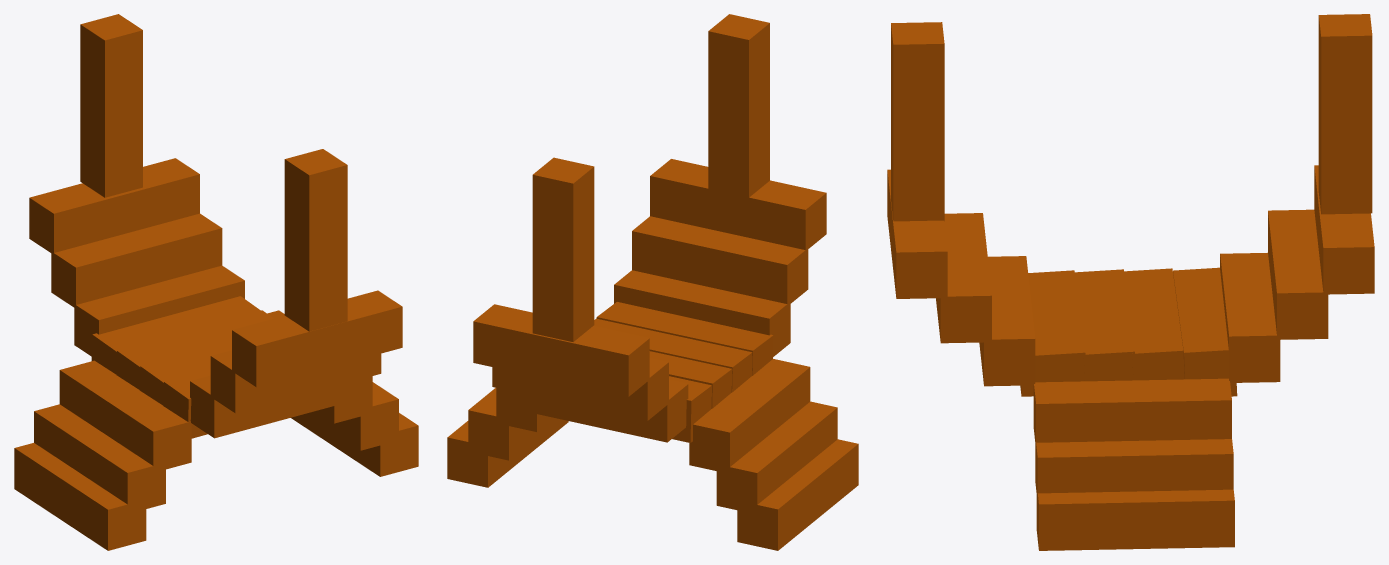
File: Acciavatti_beaconStructure.fbx
3 views of the same model, side by side, from view 1: azimuth 30°, elevation 25°; view 2: azimuth 150°, elevation 25°; view 3: azimuth 270°, elevation 25° (orthographic). The views are drawn at different scales.
Parts seen in each view (by area): view 1: topBeacon1, topBeacon2, midArm2, topArm, topArm2, topArch, botArch, midArch, botArm2, midArm, botArm, roof1 (+6 smaller); view 2: topBeacon2, topBeacon1, midArm, topArm2, topArm, topArch, botArch, midArch, botArm, midArm2, botArm2, roof4 (+6 smaller); view 3: topArch2, botArch2, topBeacon2, topBeacon1, midArch2, midArm2, botArm2, midArm, botArm, roof3, roof2, roof4 (+3 smaller).
Boxes of the visible parts, left/top/right/bottom form: topBeacon1: left=284, top=149, right=347, bottom=331; topBeacon2: left=80, top=14, right=142, bottom=197; midArm2: left=51, top=213, right=222, bottom=308; topArm: left=232, top=290, right=402, bottom=387; topArm2: left=29, top=158, right=199, bottom=254; topArch: left=59, top=360, right=191, bottom=472; botArch: left=14, top=443, right=146, bottom=550; midArch: left=34, top=404, right=165, bottom=513; botArm2: left=74, top=265, right=244, bottom=356; midArm: left=210, top=350, right=381, bottom=413; botArm: left=190, top=375, right=360, bottom=438; roof1: left=91, top=296, right=260, bottom=374; topBeacon2: left=532, top=157, right=594, bottom=341; topBeacon1: left=708, top=14, right=769, bottom=198; midArm: left=632, top=216, right=808, bottom=305; topArm2: left=473, top=304, right=649, bottom=396; topArm: left=650, top=159, right=826, bottom=250; topArch: left=689, top=359, right=810, bottom=473; botArch: left=737, top=439, right=858, bottom=550; midArch: left=716, top=401, right=837, bottom=513; botArm: left=614, top=270, right=790, bottom=356; midArm2: left=492, top=358, right=668, bottom=420; botArm2: left=512, top=379, right=688, bottom=442; roof4: left=596, top=302, right=773, bottom=375; topArch2: left=1033, top=378, right=1231, bottom=447; botArch2: left=1036, top=489, right=1234, bottom=550; topBeacon2: left=1318, top=14, right=1372, bottom=214; topBeacon1: left=891, top=22, right=944, bottom=221; midArch2: left=1035, top=439, right=1233, bottom=501; midArm2: left=1268, top=209, right=1328, bottom=339; botArm2: left=1220, top=252, right=1280, bottom=382; midArm: left=936, top=213, right=991, bottom=343; botArm: left=979, top=256, right=1035, bottom=386; roof3: left=1074, top=269, right=1134, bottom=381; roof2: left=1124, top=268, right=1184, bottom=380; roof4: left=1028, top=270, right=1085, bottom=382.
Size of the model in its own units: 87.49 by 97.93 by 100.
